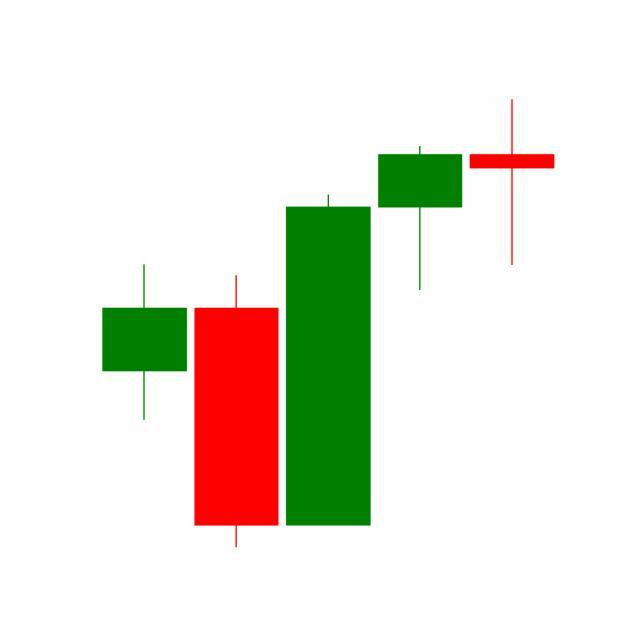Spinning Top: (466, 97, 559, 268)
